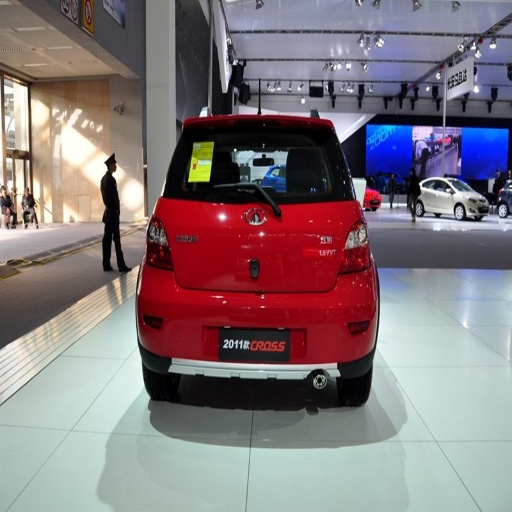back_bumper: (134, 265, 376, 379)
tailgate: (2, 18, 84, 88)
trunk: (160, 201, 357, 323)
